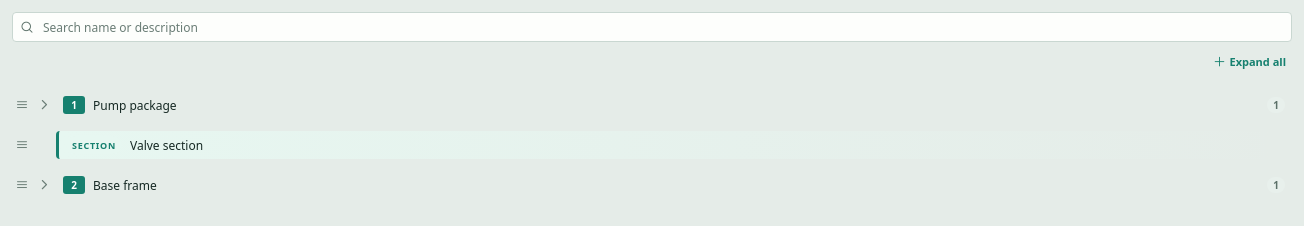
Test: QuotationNavigator › filters the outline after two characters while keeping parent context
Step 1. Type "m" into the search field with class "navigator-search-input" → coordinates (666, 27), box [41,13,1291,41]
Wait 130 ms
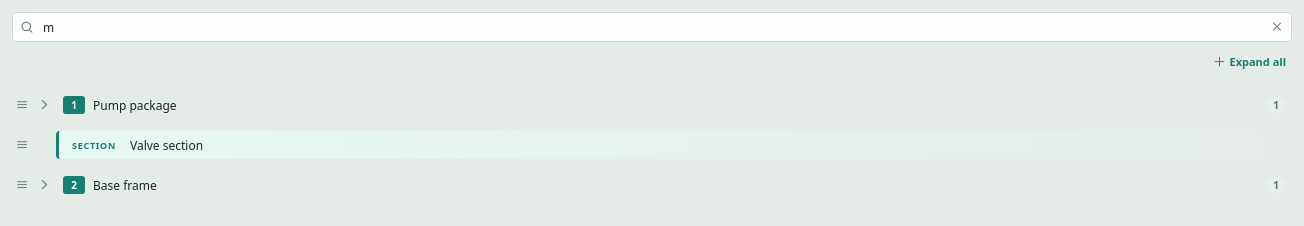
Expected: the number of elements with class "nav-row" is 3, [12,91,1292,119]; [12,131,1292,159]; [12,171,1292,199]
Expected: the navigation bar with class "navigator" shows "Valve section", [56,131,1292,159]
Step 2. Replace the text in the search field with class "navigator-search-input" with "motor" → coordinates (652, 27), box [41,13,1263,41]
Wait 130 ms
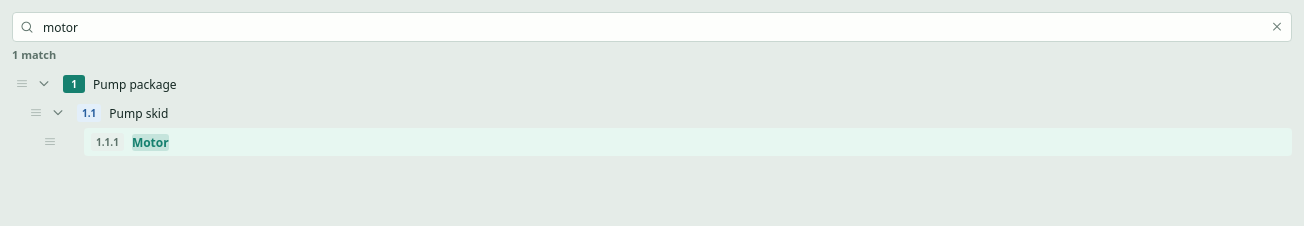
Expected: the text with class "navigator-search-count" reads "1 match", [12,47,56,62]
Expected: the navigation bar with class "navigator" shows "Pump skid", [70,99,1292,127]
Expected: the navigation bar with class "navigator" shows "Motor", [84,128,1292,156]
Step 3. Click the button with class "navigator-search-clear" → coordinates (1277, 27), box [1263,13,1291,41]
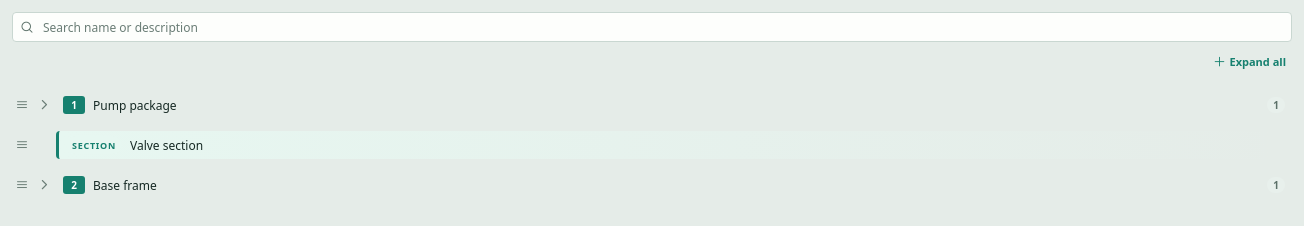
Expected: the number of elements with class "nav-row" is 3, [12,91,1292,119]; [12,131,1292,159]; [12,171,1292,199]
Expected: the navigation bar with class "navigator" shows "Valve section", [56,131,1292,159]
